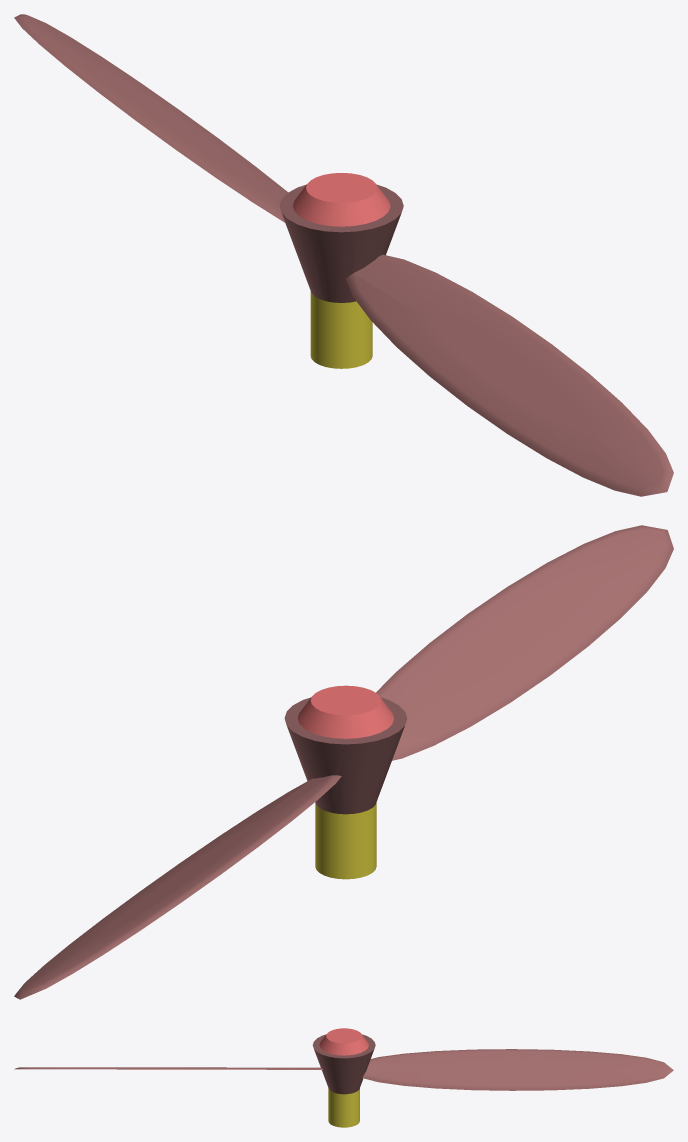
File: FlyGear_Propeller1.fbx
3 renders of one model, top to bottom at view 1: azimuth 30°, elevation 25°; view 2: azimuth 150°, elevation 25°; view 3: azimuth 270°, elevation 25°, orthographic. The views are drawn at different scales.
Visible parts, largest first — view 1: Model; view 2: Model; view 3: Model.
Boxes of the visible parts, x1,y1,x2,y2 form: Model: (14,14,673,496); Model: (14,525,673,999); Model: (14,1028,673,1127).
Bounding box in the file's own units: 43.63 × 64.97 × 457.
